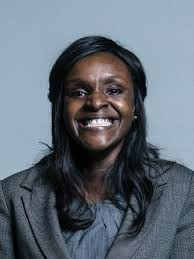black_female: (61, 51, 145, 155)
